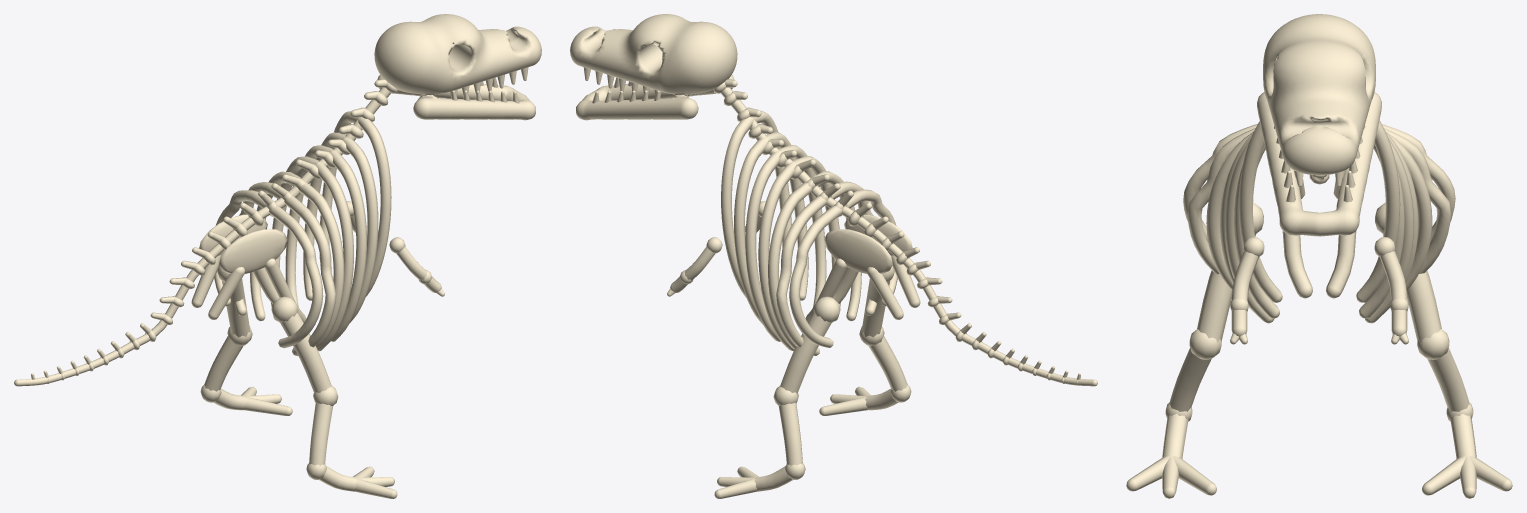
Rendered from meshy_rex_bones.glb.
The picture shows the model from 3 angles, left to right: view 1: azimuth 30°, elevation 25°; view 2: azimuth 150°, elevation 25°; view 3: azimuth 270°, elevation 25°; orthographic projection. The views are drawn at different scales.
Parts seen in each view (by area): view 1: bone; view 2: bone; view 3: bone.
Boxes of the visible parts, <box> form: bone: <box>14,14,541,498</box>; bone: <box>570,14,1097,498</box>; bone: <box>1126,14,1512,498</box>.
Size of the model in its own units: 3.31 by 2.42 by 1.59.
